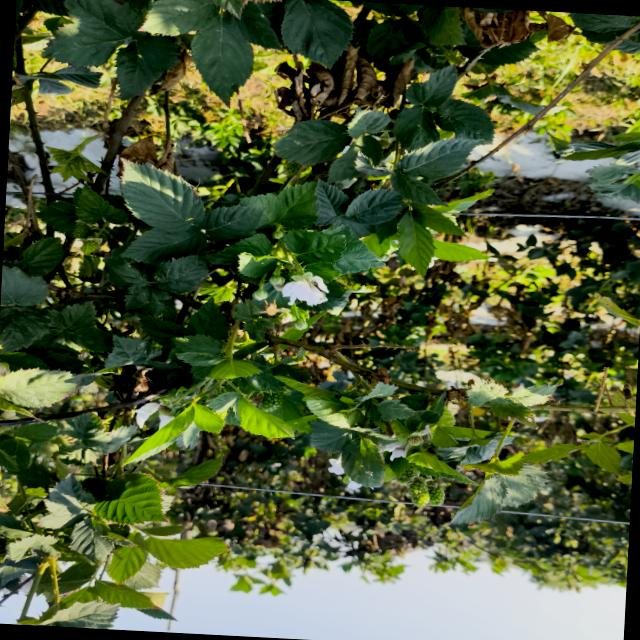boton: (269, 275, 285, 287), (292, 319, 308, 330), (253, 289, 268, 300), (277, 230, 284, 236)
flor: (281, 272, 328, 306)
